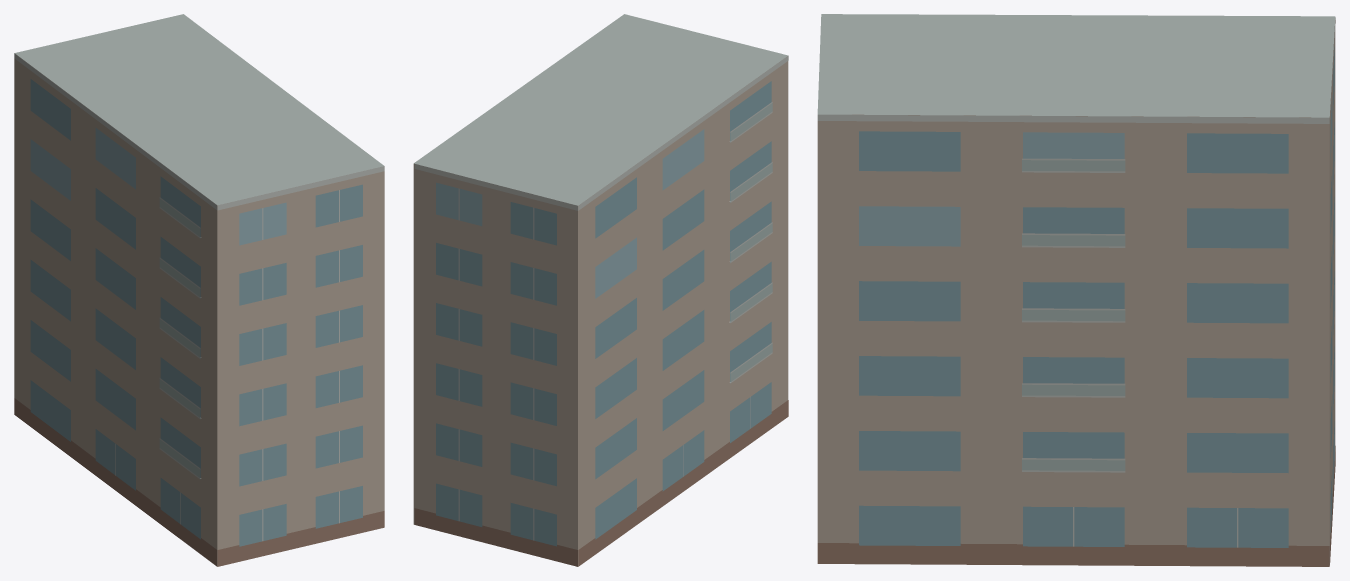
The model's file is survey-upis-32675777.glb.
3 views of the same model, side by side, from view 1: azimuth 30°, elevation 25°; view 2: azimuth 150°, elevation 25°; view 3: azimuth 270°, elevation 25° (orthographic). The views are drawn at different scales.
Visible parts, largest first — view 1: survey-upis-32675777.tmp; view 2: survey-upis-32675777.tmp; view 3: survey-upis-32675777.tmp.
Part boxes in pixels (x1=…): survey-upis-32675777.tmp: x1=14, y1=14, x2=384, y2=566; survey-upis-32675777.tmp: x1=413, y1=14, x2=788, y2=566; survey-upis-32675777.tmp: x1=817, y1=14, x2=1335, y2=566.
Bounding box in the file's own units: 8.48 × 17.1 × 17.87.
